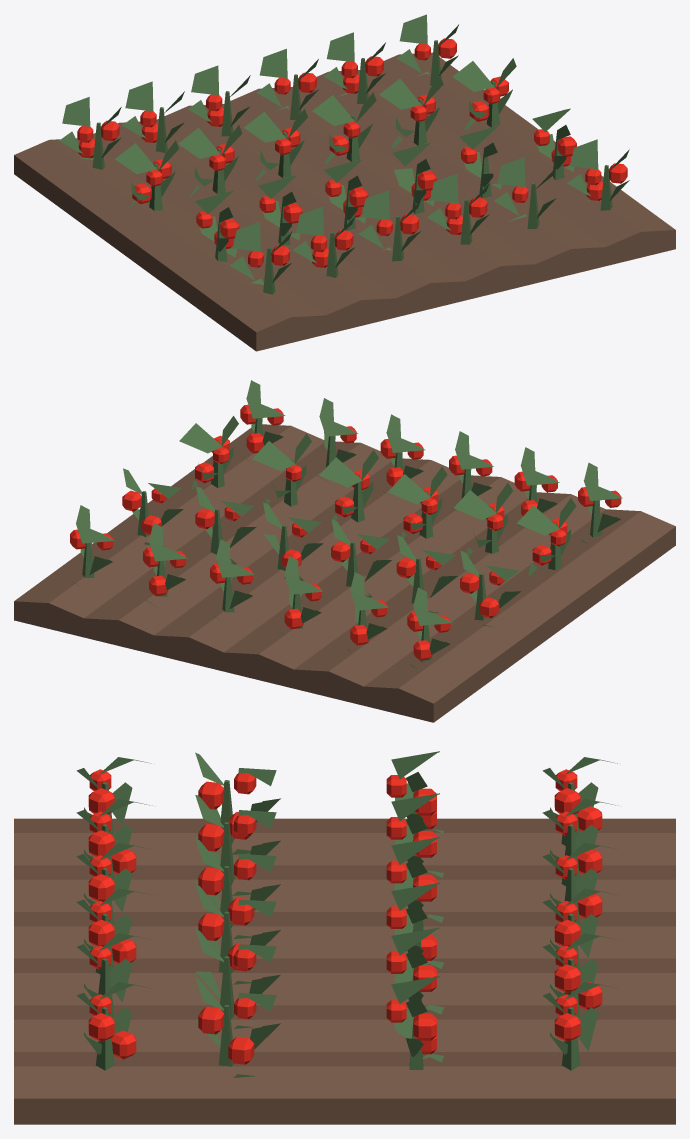
File: tomato-farm.obj
3 views of the same model, one above another, from view 1: azimuth 30°, elevation 25°; view 2: azimuth 150°, elevation 25°; view 3: azimuth 270°, elevation 25° (orthographic). The views are drawn at different scales.
Visible parts, largest first — view 1: tomato-farm; view 2: tomato-farm; view 3: tomato-farm.
Boxes of the visible parts, box(x1,y1,x2,y2) form: tomato-farm: box(14, 14, 675, 351); tomato-farm: box(14, 380, 675, 722); tomato-farm: box(14, 751, 675, 1124).
Bounding box in the file's own units: 1.96 × 0.3876 × 1.96.
